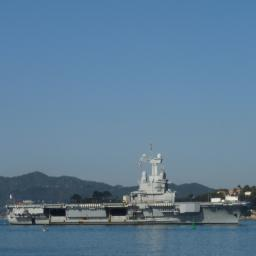Portanaves: (7, 140, 252, 228)
